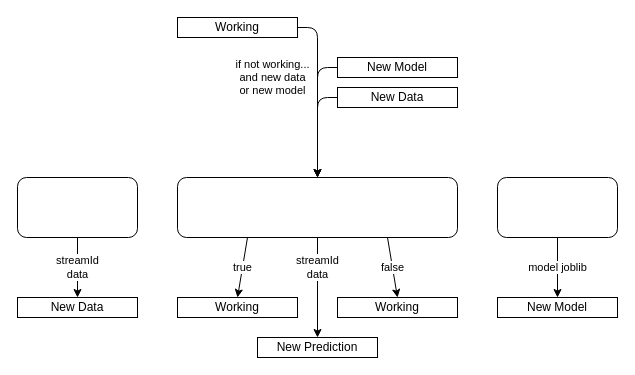
Some shapes in this 635 by 375 pixel diagram are drawn without their labels. Here are the shapes that lost their labels. From the top down, the centre of each, then its label:
point 77,207: DataManager
point 317,207: Prediction Producer
point 557,207: Model Producer
